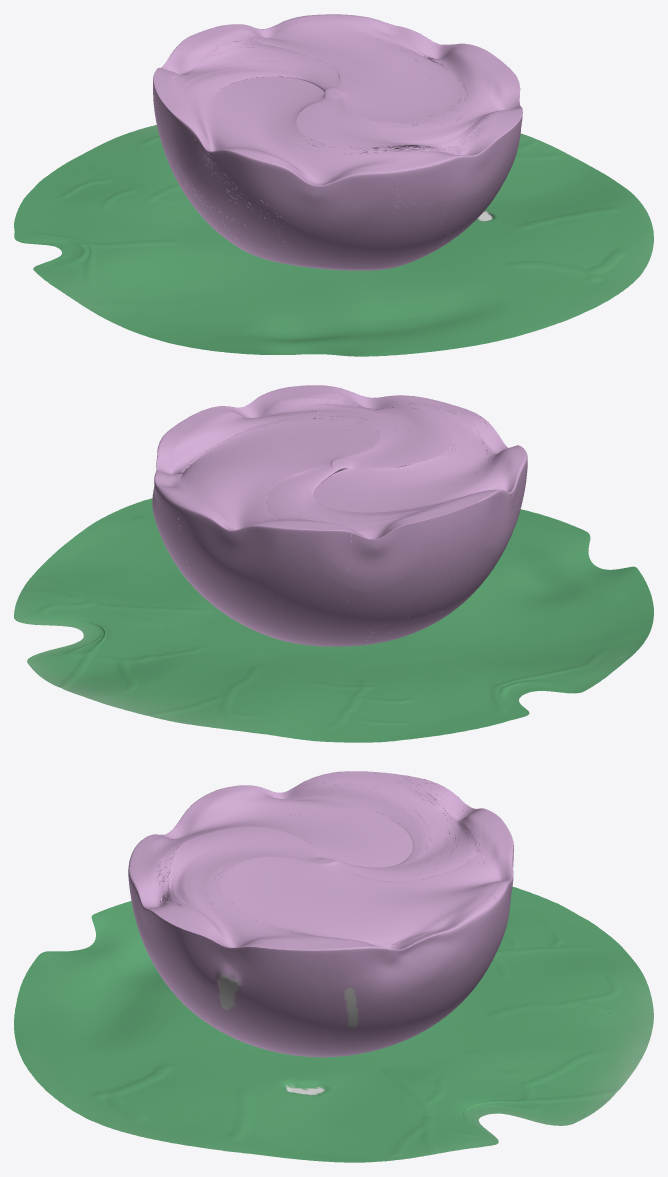
3 views of the same model, one above another, from view 1: azimuth 30°, elevation 25°; view 2: azimuth 150°, elevation 25°; view 3: azimuth 270°, elevation 25° (orthographic). The views are drawn at different scales.
Visible parts, largest first — view 1: Geode; view 2: Geode; view 3: Geode.
Boxes of the visible parts, <box> form: Geode: <box>14,14,653,356</box>; Geode: <box>14,385,653,742</box>; Geode: <box>14,771,653,1162</box>.
Bounding box in the file's own units: 66.02 × 19.65 × 63.36.
